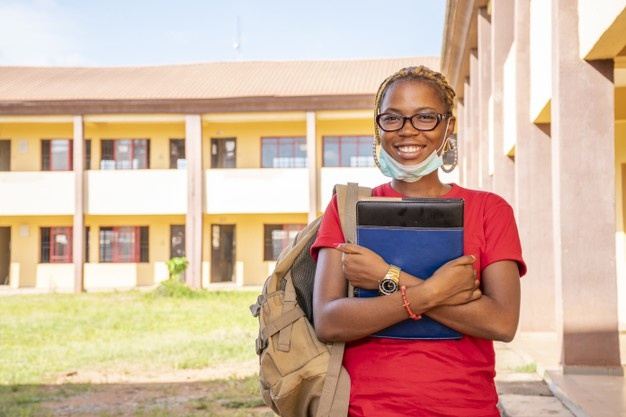with_incorrect_mask: (381, 84, 441, 183)
